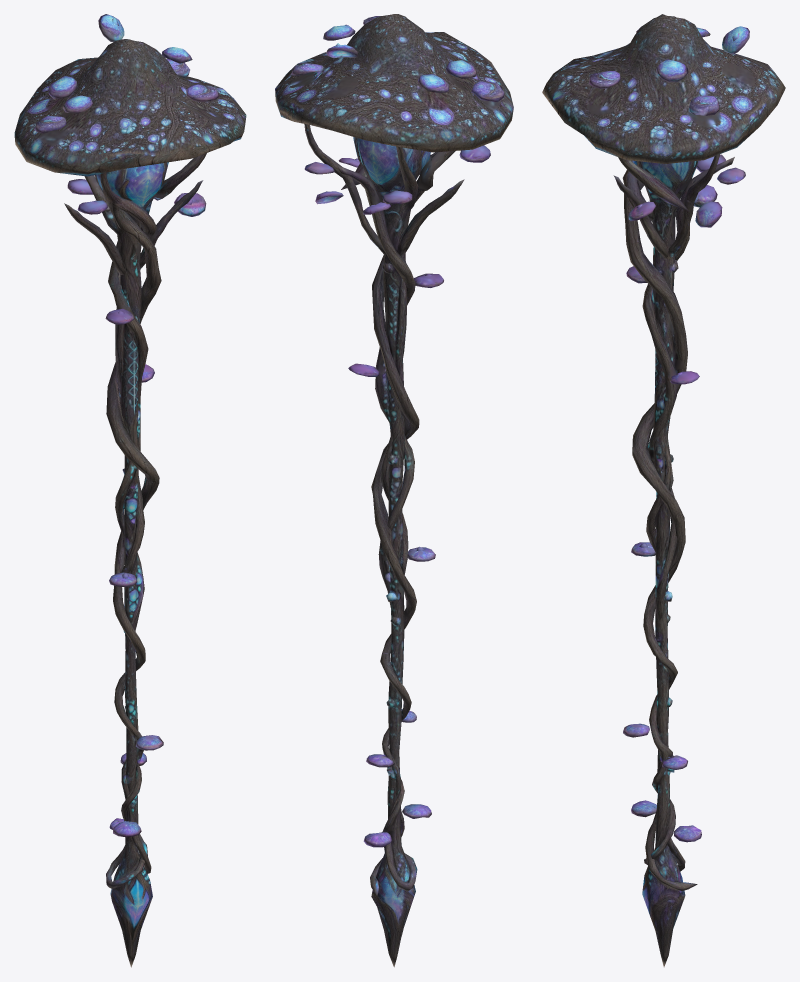
Rendered from mycean_mage_staff.glb.
3 renders of one model, left to right at view 1: azimuth 30°, elevation 25°; view 2: azimuth 150°, elevation 25°; view 3: azimuth 270°, elevation 25°, orthographic. The views are drawn at different scales.
Size of the model in its own units: 0.2354 by 1 by 0.2319.
Materials: 1 (1 with a texture image).
